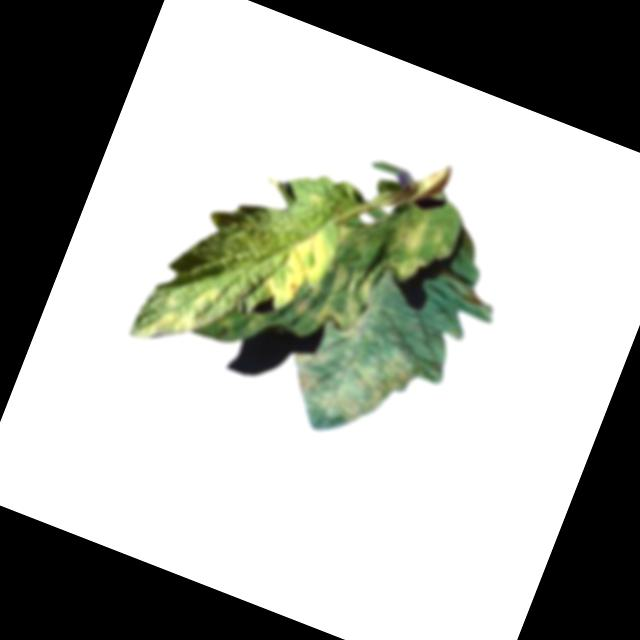Leaf_Mold: (272, 306, 426, 452), (259, 216, 344, 318), (144, 264, 229, 356), (376, 212, 449, 292), (312, 256, 380, 339)
